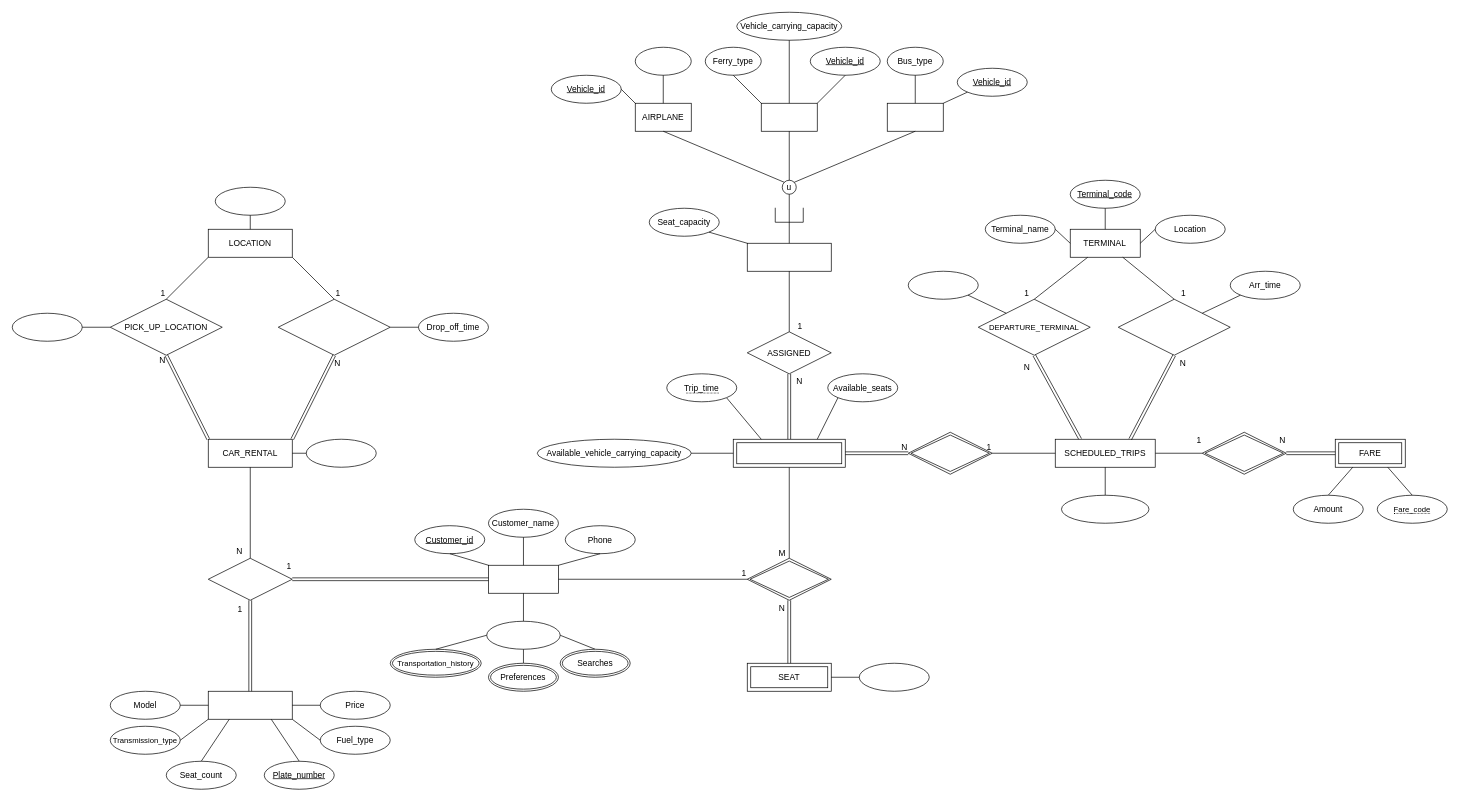
This 1460x802 diagram has some shape labels left out. The shapes that lost their labels are listed below. From the top down, each one's centre as x and y in pixels, then its label:
At (663,61): "Aircraft_type".
At (789,117): "FERRY".
At (915,117): "BUS".
At (250,201): "Address".
At (789,257): "VEHICLE".
At (943,285): "Dep_time".
At (47,327): "Pick_up_time".
At (334,327): "DROP_OFF_LOCATION".
At (1174,327): "ARRIVAL_TERMINAL".
At (341,453): "Rental_code".
At (789,453): "TRIP_INSTANCE".
At (950,453): "INSTANCE_OF".
At (1244,453): "HAS".
At (1105,509): "Trip_code".
At (250,579): "RENTAL".
At (523,579): "CUSTOMER".
At (789,579): "RESERVATION".
At (523,635): "Data".
At (894,677): "Seat_number".
At (250,705): "CAR".
